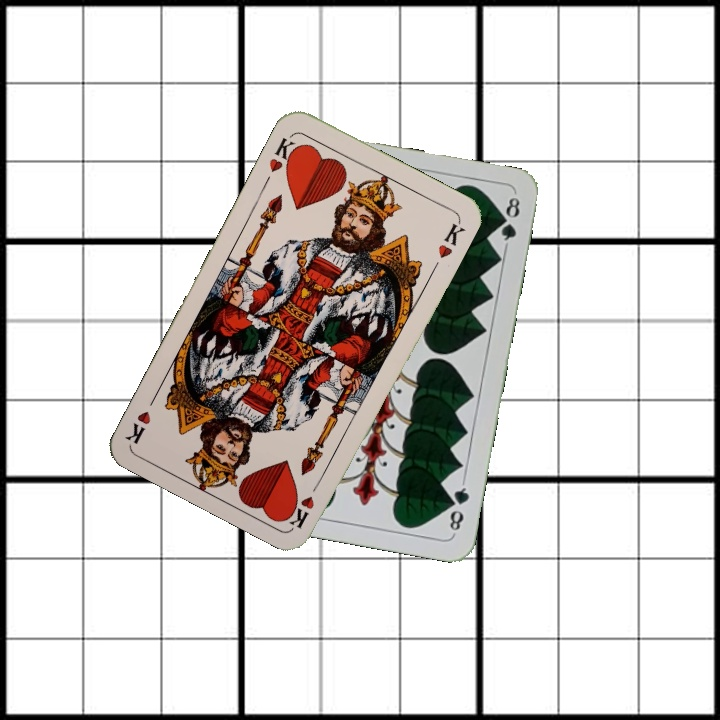G8: (445, 478, 472, 537)
HK: (285, 474, 325, 531), (265, 131, 303, 176)
